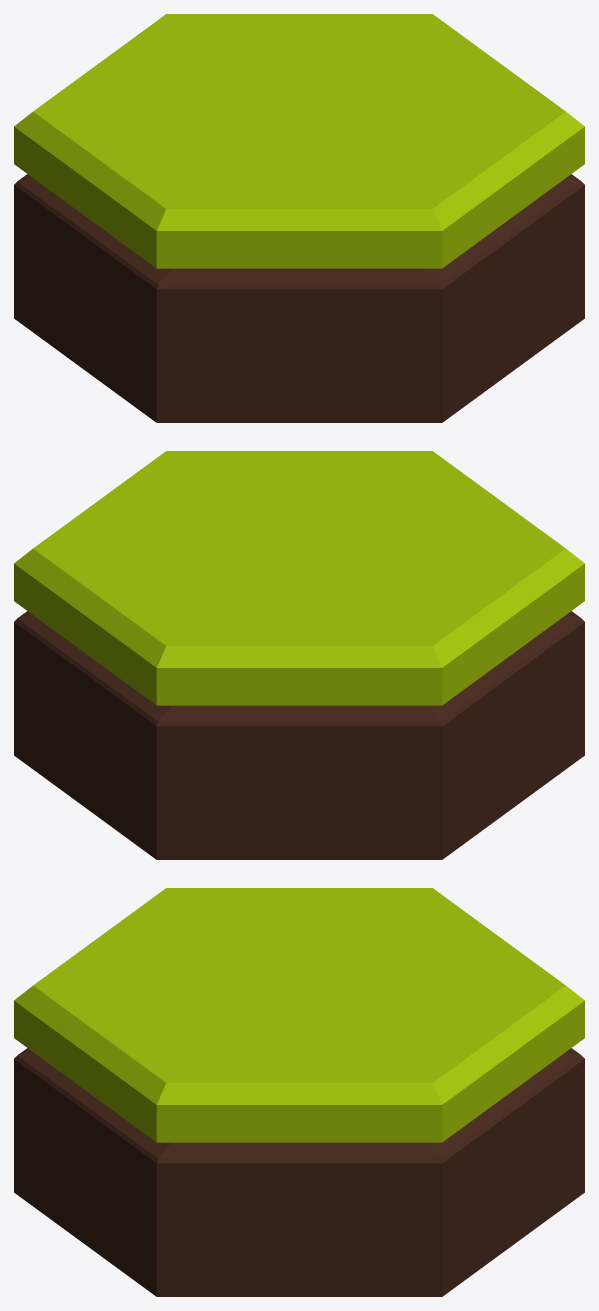
Rendered from Tile_plaine.fbx.
3 renders of one model, top to bottom at view 1: azimuth 30°, elevation 25°; view 2: azimuth 150°, elevation 25°; view 3: azimuth 270°, elevation 25°, orthographic.
Visible parts, largest first — view 1: Plaine; view 2: Plaine; view 3: Plaine.
Boxes of the visible parts, bbox=[...] form: Plaine: bbox=[14, 14, 584, 422]; Plaine: bbox=[14, 451, 584, 859]; Plaine: bbox=[14, 888, 584, 1296].
Bounding box in the file's own units: 173 × 80 × 200.
